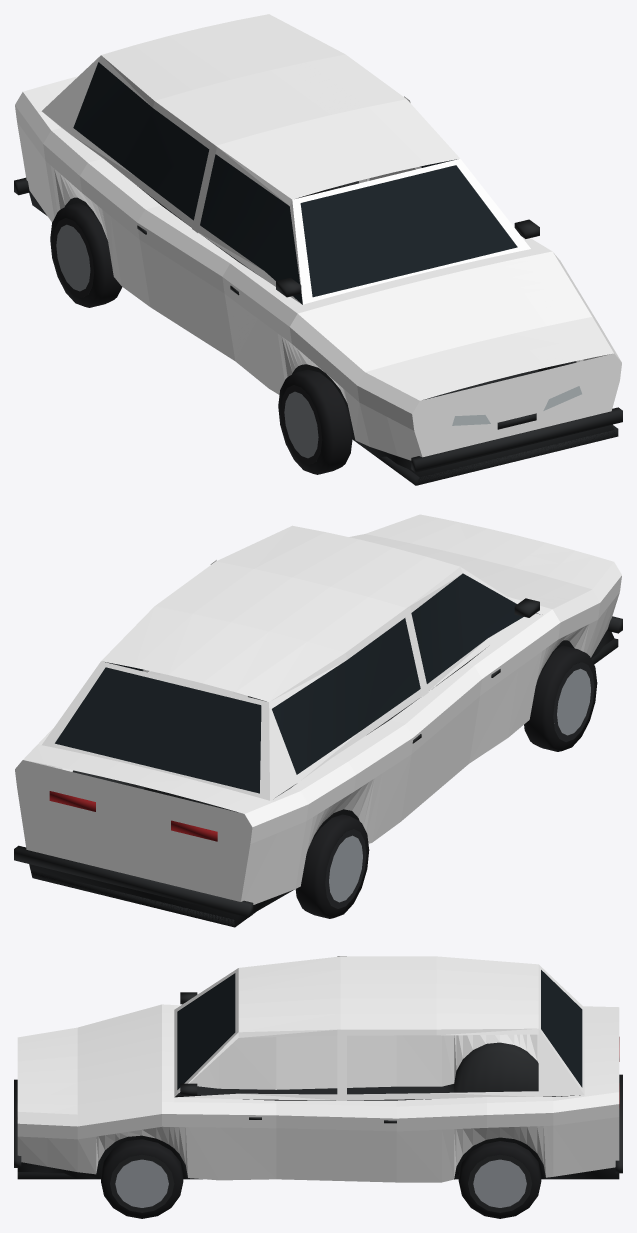
File: hoshino_senda.glb
3 renders of one model, top to bottom at view 1: azimuth 30°, elevation 25°; view 2: azimuth 150°, elevation 25°; view 3: azimuth 270°, elevation 25°, orthographic. The views are drawn at different scales.
Parts seen in each view (by area): view 1: Body_Paint, Body_Details, Mount_FrontLeft_Wheel_Details, Mount_RearLeft_Wheel_Details; view 2: Body_Paint, Body_Details, Mount_FrontLeft_Wheel_Details, Mount_RearLeft_Wheel_Details; view 3: Body_Paint, Body_Details, Mount_FrontRight_Wheel_Details, Mount_RearRight_Wheel_Details.
Part boxes in pixels (x1,y1,x2,y2): Body_Paint: (15,14,621,460); Body_Details: (14,62,622,485); Mount_FrontLeft_Wheel_Details: (278,369,352,474); Mount_RearLeft_Wheel_Details: (50,203,122,307); Body_Paint: (15,514,621,904); Body_Details: (14,573,622,927); Mount_FrontLeft_Wheel_Details: (524,645,597,751); Mount_RearLeft_Wheel_Details: (295,814,369,918); Body_Paint: (17,956,619,1182); Body_Details: (14,970,622,1179); Mount_FrontRight_Wheel_Details: (101,1139,183,1218); Mount_RearRight_Wheel_Details: (458,1141,541,1218).
Bounding box in the file's own units: 1.91 × 1.5 × 4.64.
2 materials, 1 textured.
